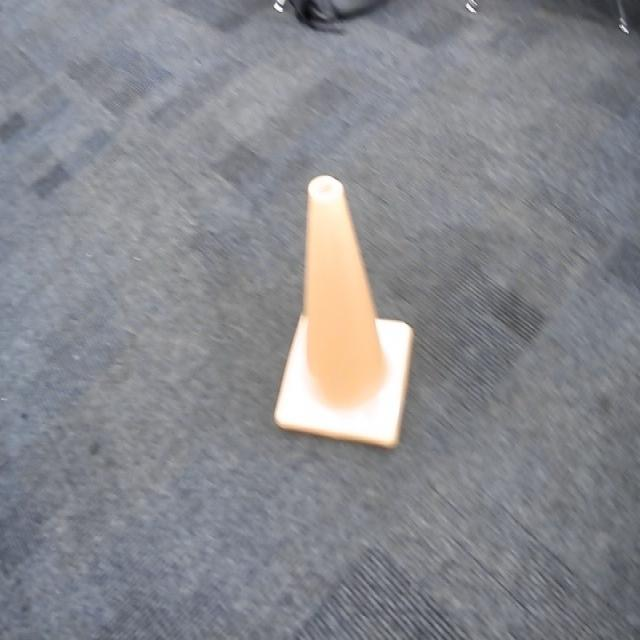cone: (274, 174, 415, 452)
